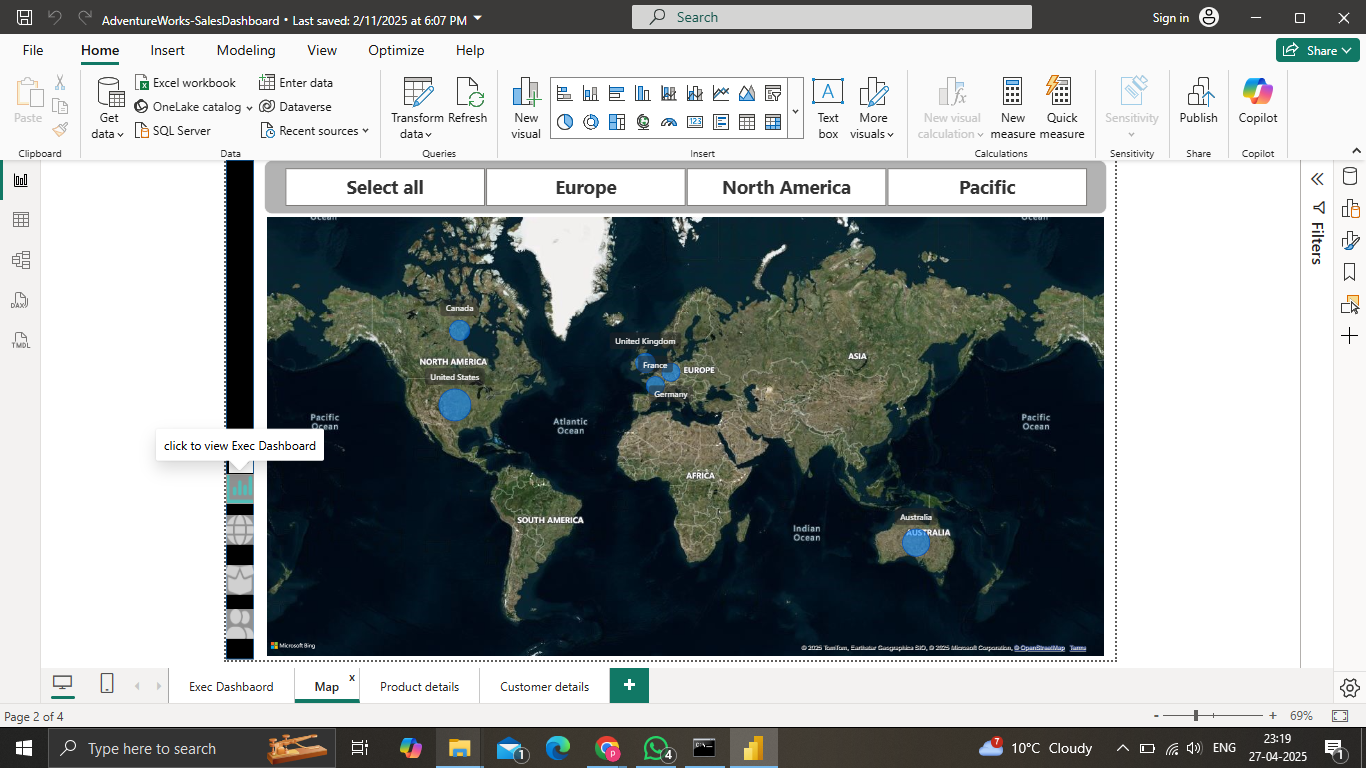

Layout of this report page (visuals, bound fields, positions):
{"tool":"powerbi","page":{"name":"Map","canvas":[1280,720],"ordinal":1},"visuals":[{"type":"shape","box":[0,0,40.3,719.4],"z":0},{"type":"map","fields":{"Category":["Territory Lookup.Country"],"Size":["Measure table.total orders"]},"box":[54.7,77.8,1213.9,640.8],"z":1000},{"type":"slicer","fields":{"Values":["Territory Lookup.Continent"]},"box":[54.7,0,1213.9,77.8],"z":2000},{"type":"actionButton","box":[0,452.2,40.3,43.2],"z":2001},{"type":"actionButton","box":[0,511.2,40.3,43.2],"z":2002},{"type":"actionButton","box":[0,583.2,40.3,43.2],"z":2003},{"type":"actionButton","box":[0,646.6,40.3,43.2],"z":2004}]}

Visuals, with their boxes on the page's 1280x720 design canvas (x1, y1, x2, y2). These are canvas units, not pixel positions in the 1366x768 screenshot, which may show the page scaled, cropped or inside an application window:
shape: bbox(0, 0, 40, 719)
map - Territory Lookup.Country x Measure table.total orders: bbox(55, 78, 1269, 719)
slicer - Territory Lookup.Continent: bbox(55, 0, 1269, 78)
actionButton: bbox(0, 452, 40, 495)
actionButton: bbox(0, 511, 40, 554)
actionButton: bbox(0, 583, 40, 626)
actionButton: bbox(0, 647, 40, 690)
